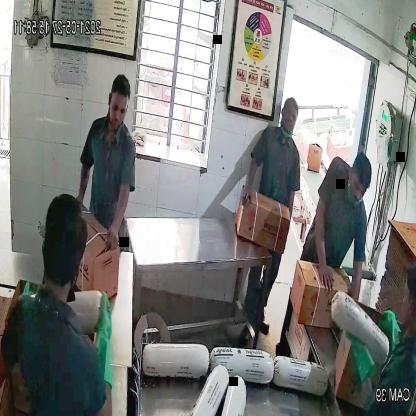no_goggles: (101, 101, 132, 122)
